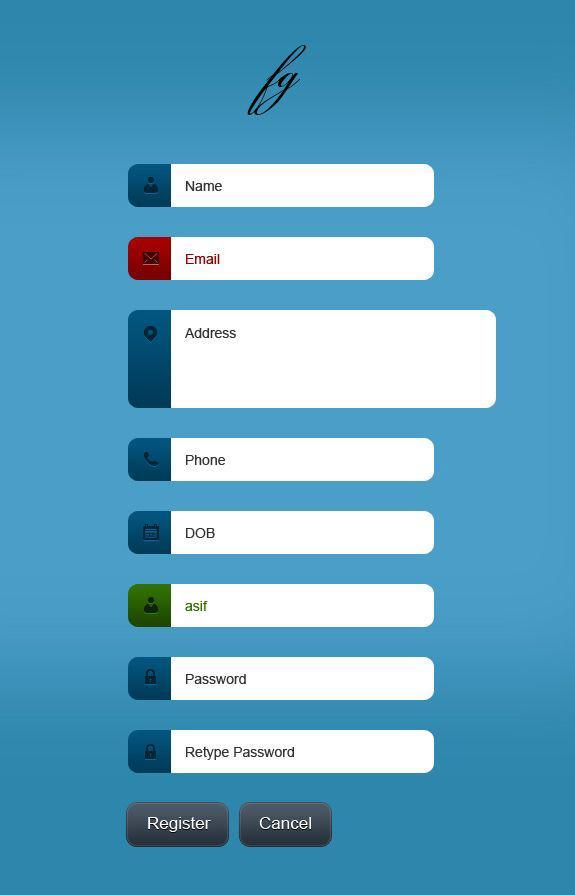button: (240, 802, 333, 848)
icon: (127, 802, 230, 848), (143, 175, 161, 196), (143, 524, 162, 543), (142, 251, 162, 268), (144, 597, 160, 616), (144, 452, 161, 469), (144, 326, 158, 344), (145, 744, 159, 762), (145, 670, 159, 687)
input: (173, 237, 437, 283), (172, 584, 436, 630), (172, 164, 435, 210), (172, 657, 436, 702), (173, 511, 436, 556), (173, 730, 436, 775), (173, 439, 436, 482)
